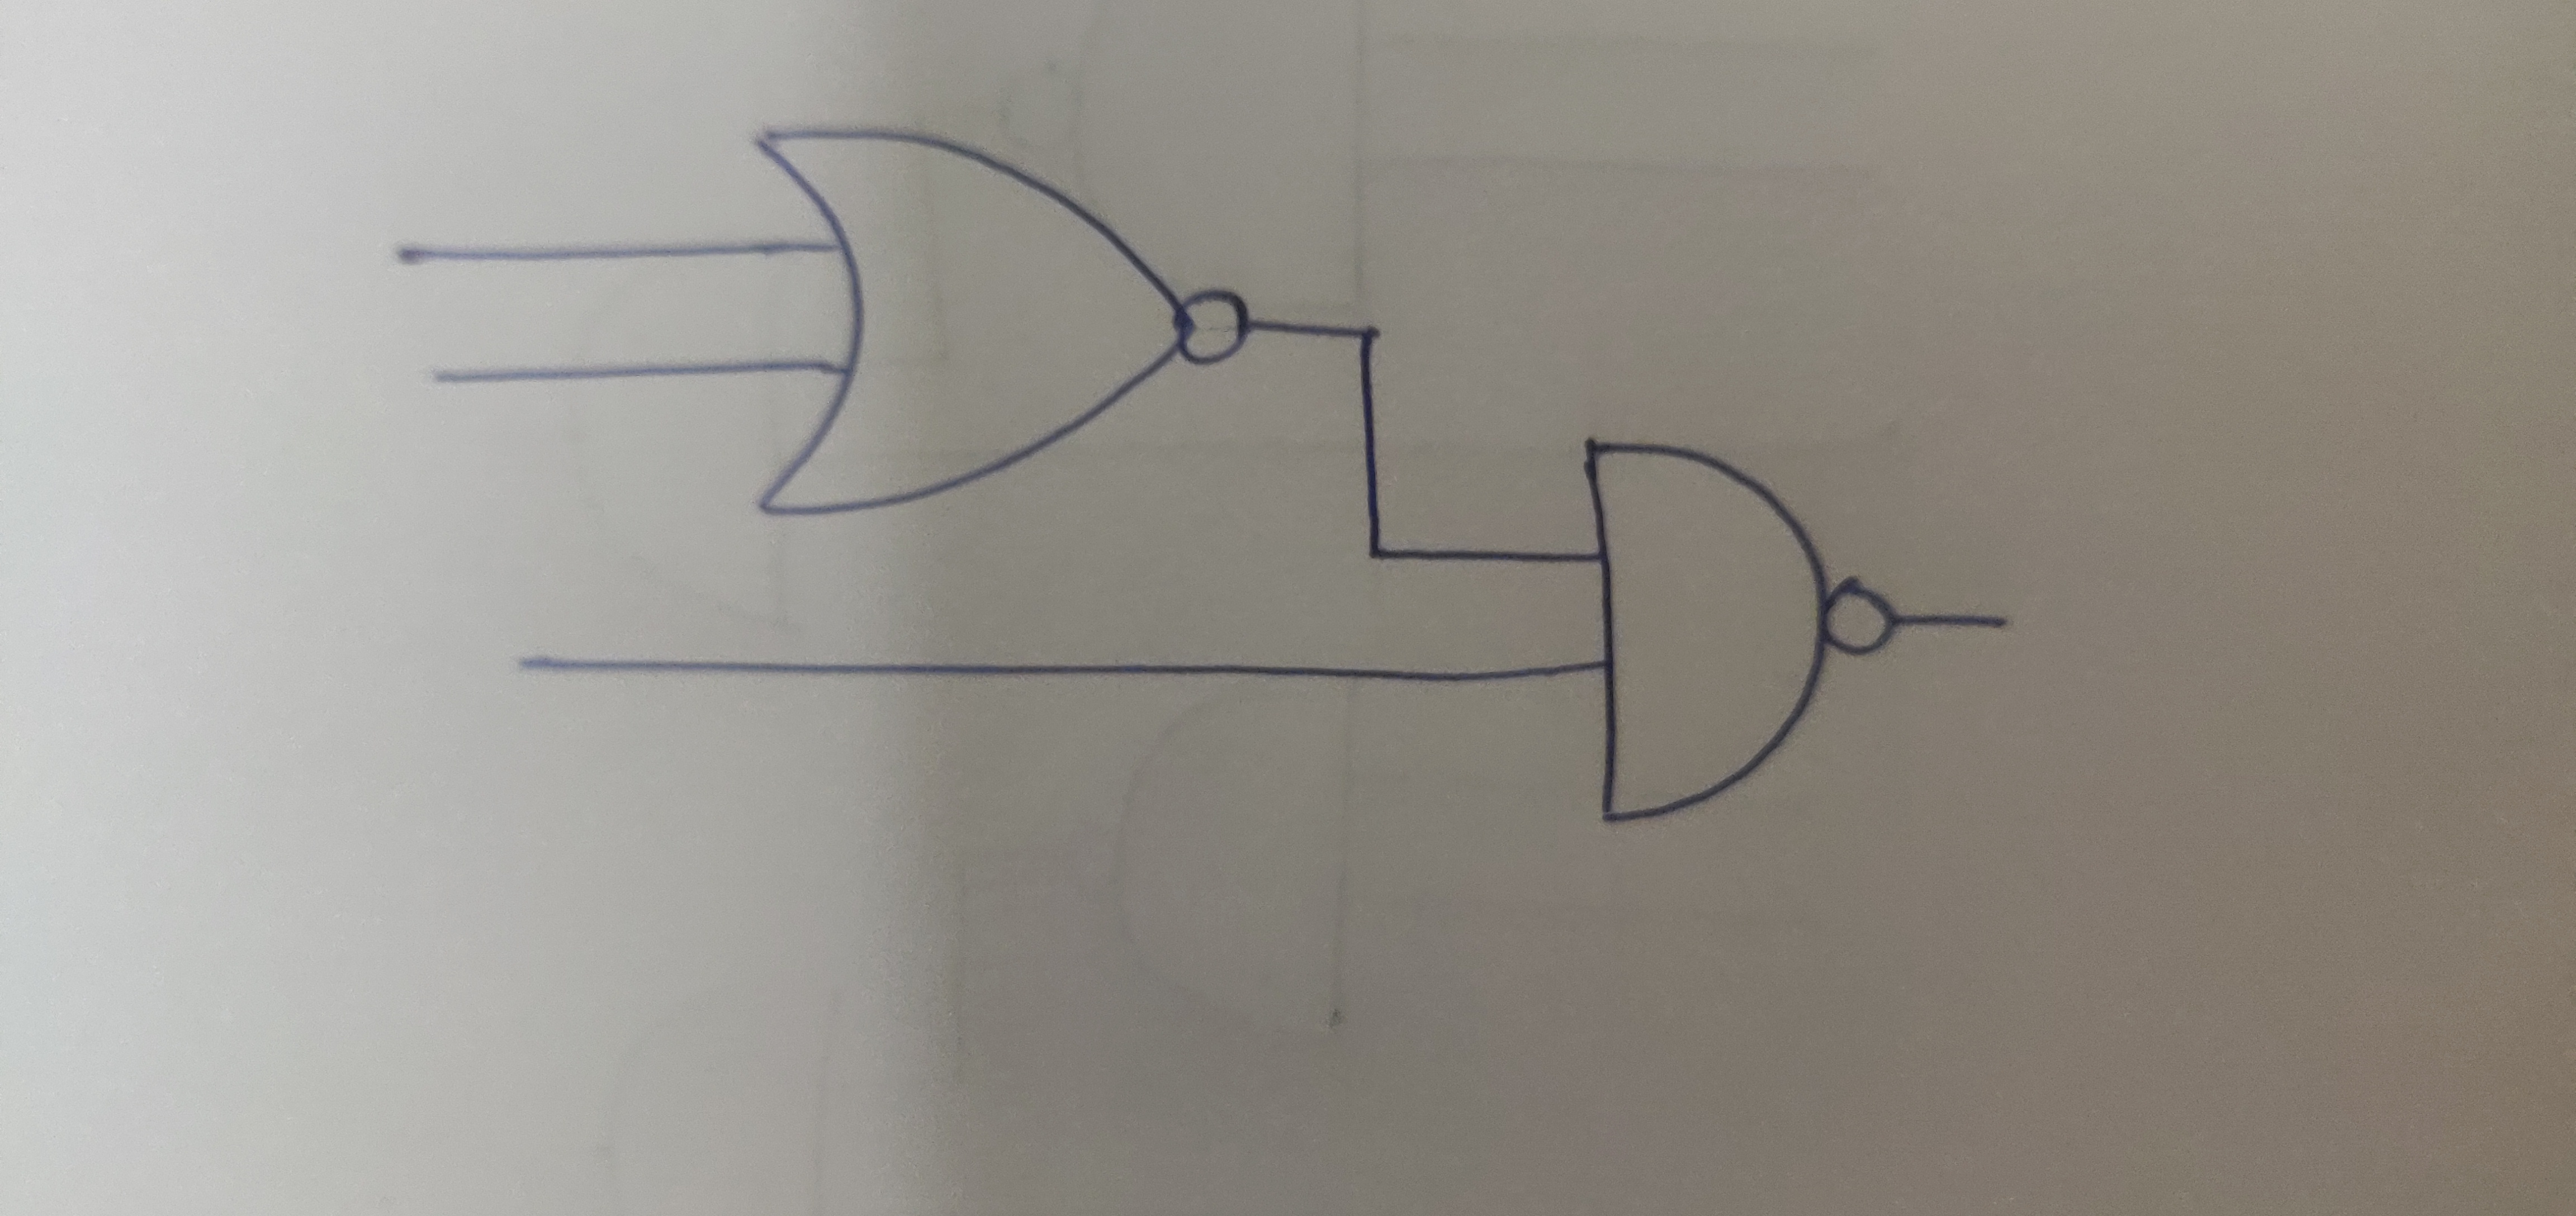and: (1580, 437, 1830, 828)
not: (1176, 276, 1255, 371), (1824, 575, 1902, 661)
or: (739, 118, 1196, 516)
